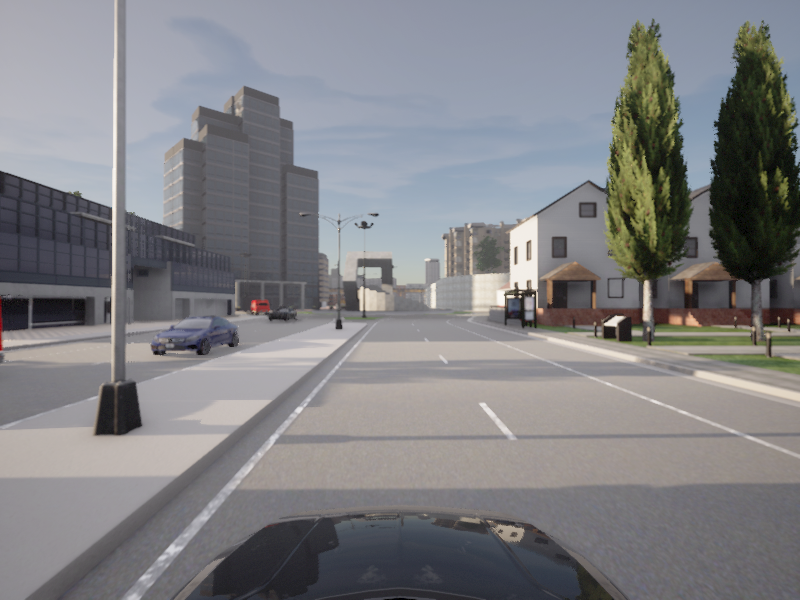vehicle: (144, 314, 244, 358), (0, 265, 12, 446), (264, 306, 299, 322)
